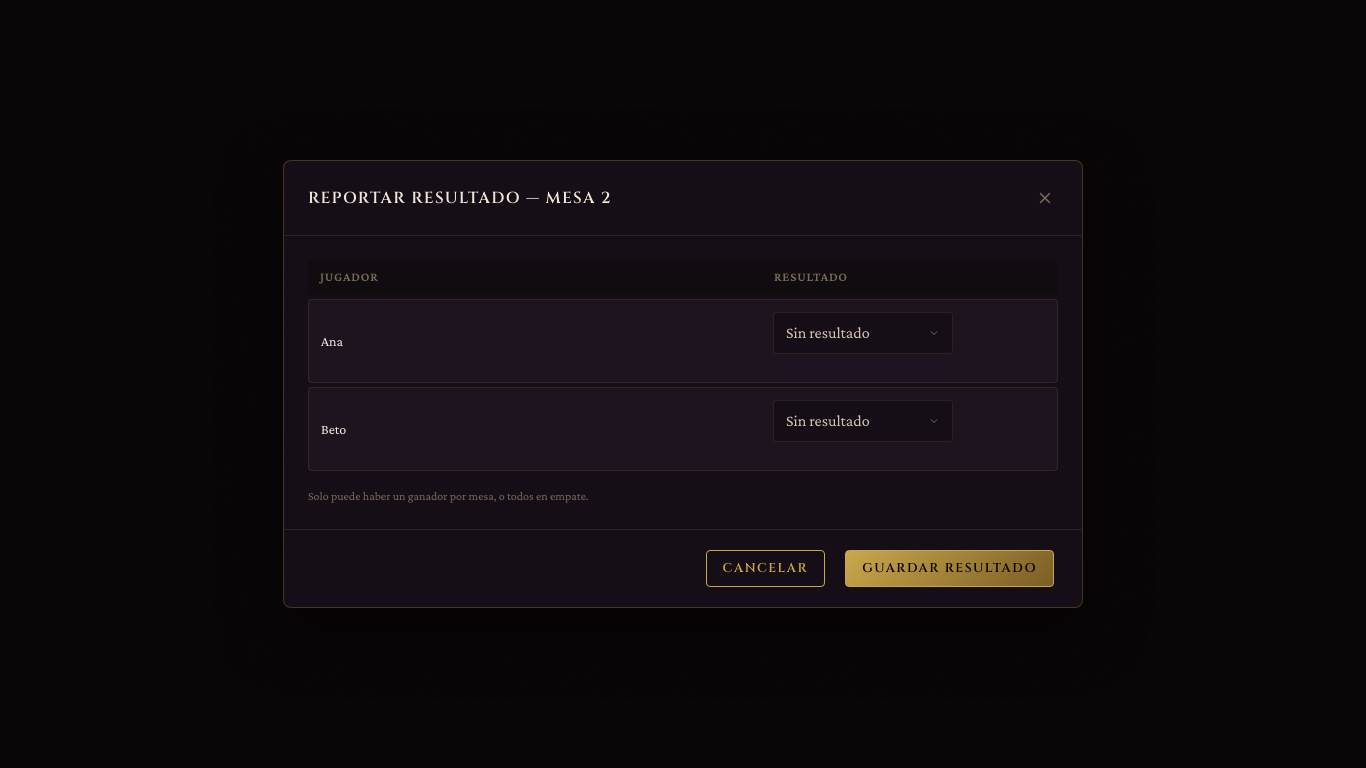
ReportarResultadoModal › exige completar todos los resultados
Click the button "Guardar resultado": (950, 569) [845,550,1054,587]
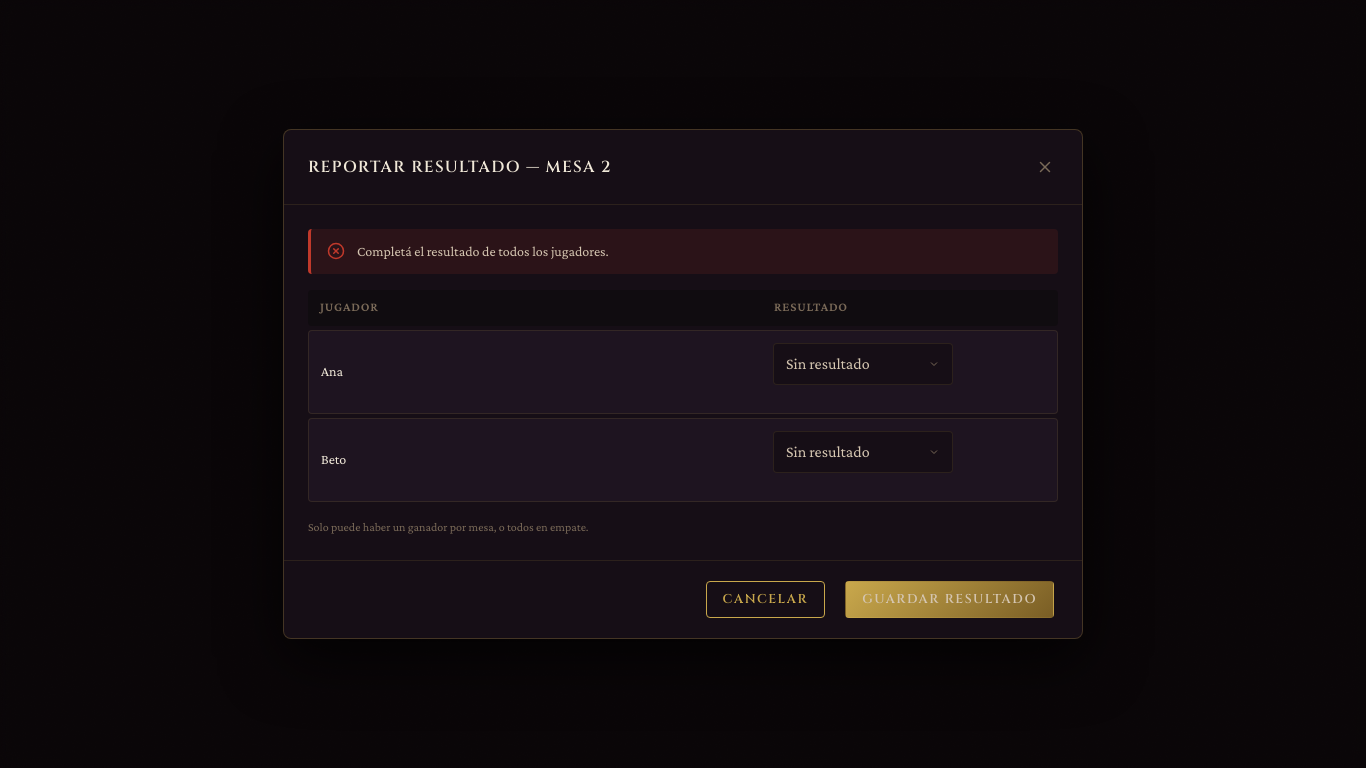
expect the text "Completá el resultado de todos los jugadores." is shown: met, box [357,241,609,262]
